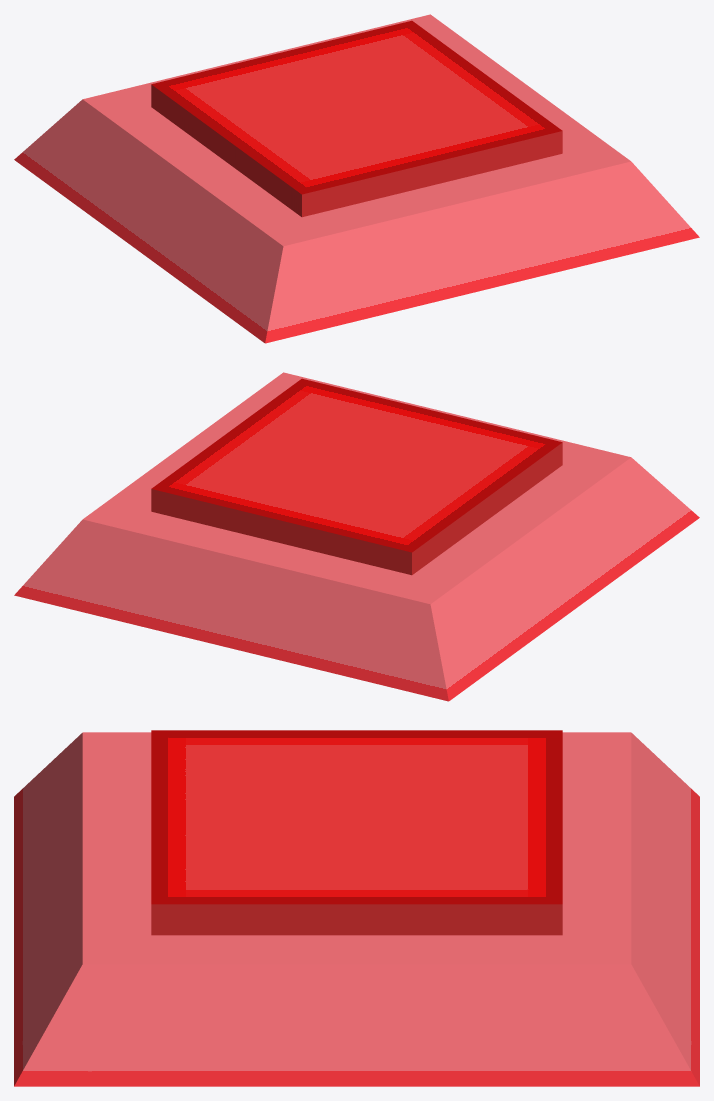
The model's file is Button.gltf.
3 views of the same model, one above another, from view 1: azimuth 30°, elevation 25°; view 2: azimuth 150°, elevation 25°; view 3: azimuth 270°, elevation 25° (orthographic). The views are drawn at different scales.
Visible parts, largest first — view 1: mesh, Button; view 2: mesh, Button; view 3: mesh, Button.
Part boxes in pixels (box(x1,y1,x2,y2)): mesh: box(14, 14, 699, 343); Button: box(151, 20, 562, 217); mesh: box(14, 372, 699, 701); Button: box(151, 378, 562, 575); mesh: box(14, 732, 699, 1086); Button: box(151, 730, 562, 935).
Size of the model in its own units: 1.25 by 0.25 by 1.25.
2 materials, 2 textured.
